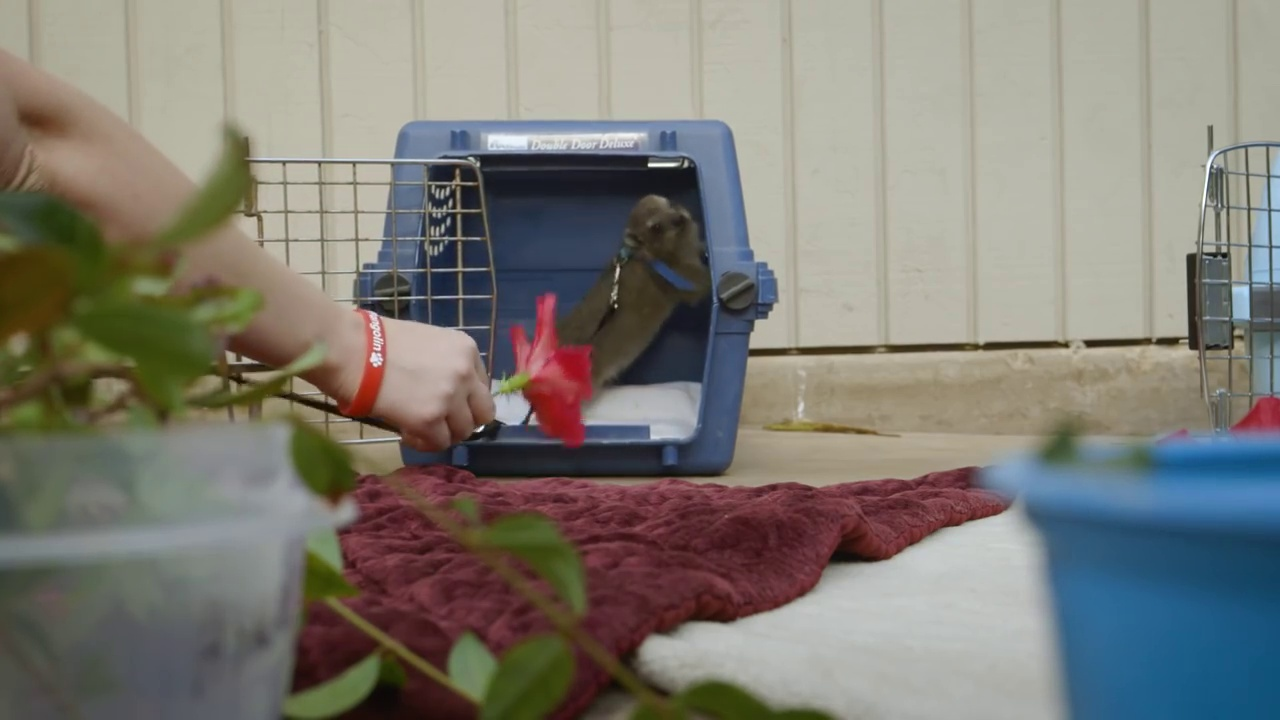Rock Hyrex: (537, 187, 710, 408)
